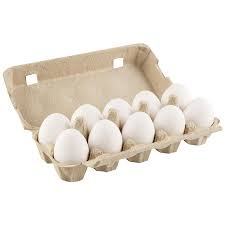eggs: (51, 127, 86, 161), (161, 78, 196, 107), (89, 116, 118, 150), (124, 110, 151, 144), (69, 93, 93, 131), (35, 112, 66, 141), (158, 101, 181, 140), (104, 92, 127, 123), (133, 88, 155, 117), (190, 95, 212, 124)
